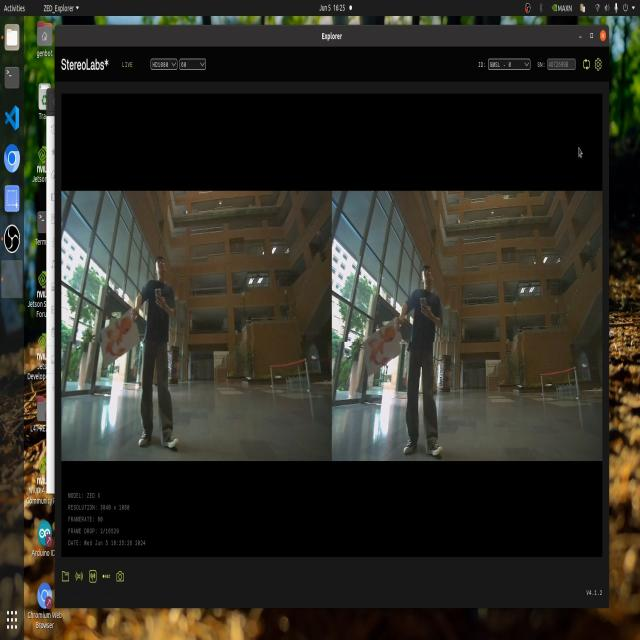red: (98, 309, 135, 366), (367, 314, 398, 378)
